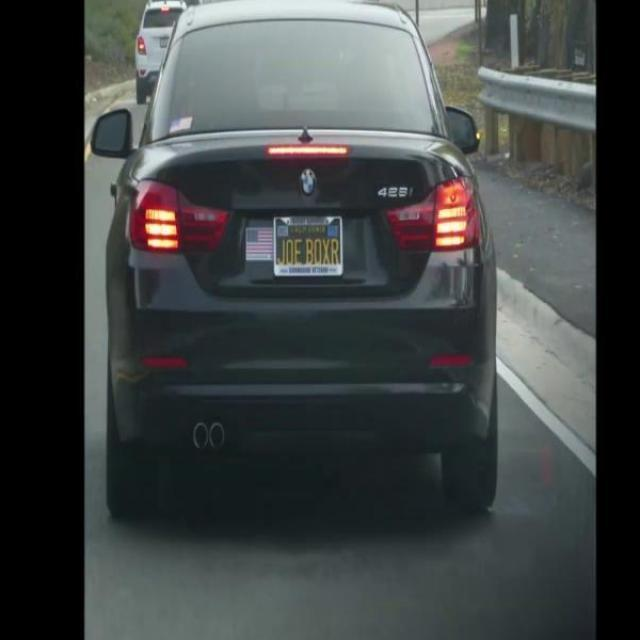license-plate: (272, 196, 354, 282)
